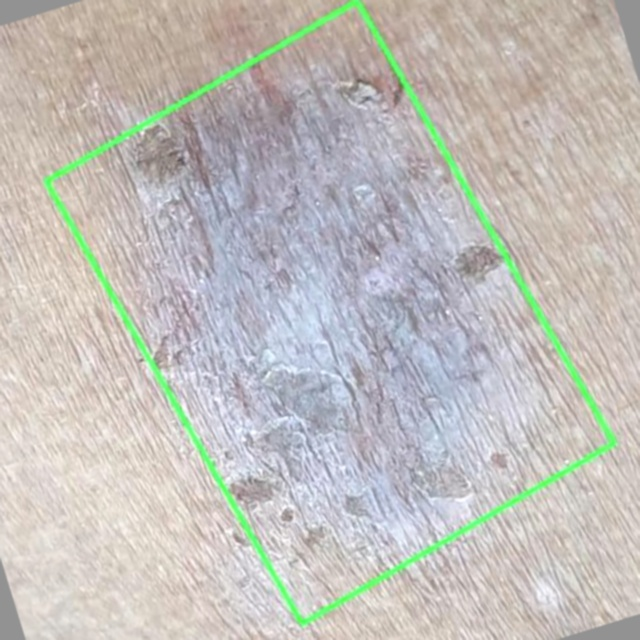Seborrheic Dermatitis: (46, 1, 614, 624)
